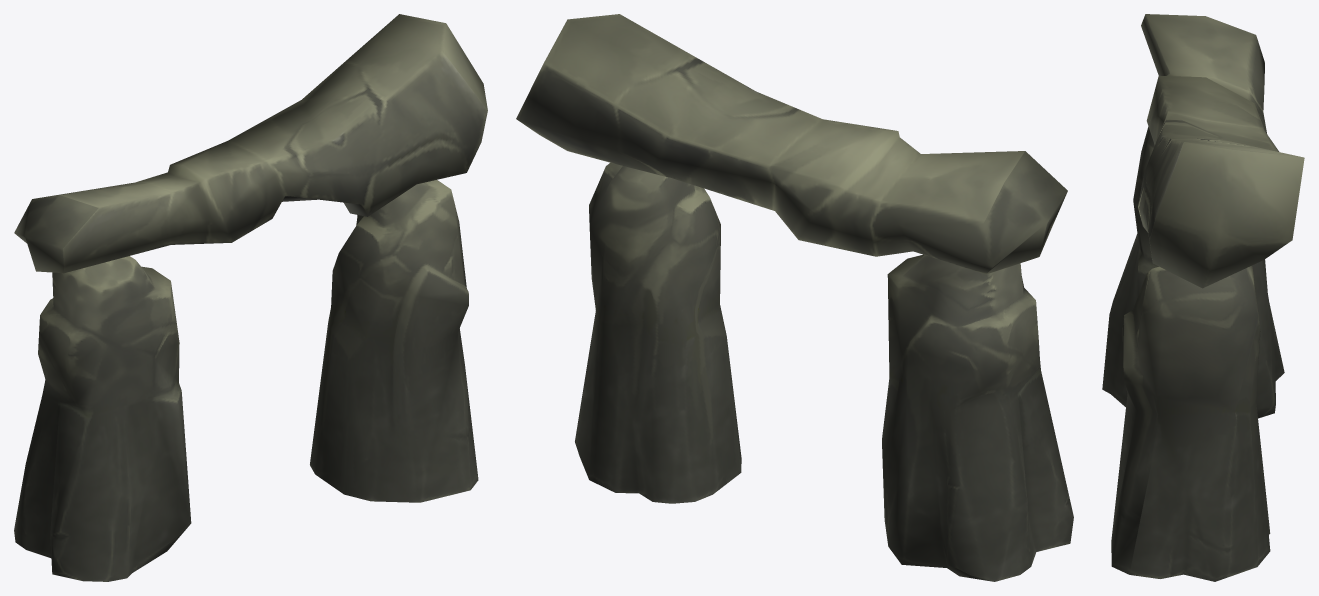
File: Props18.FBX
The picture shows the model from 3 angles, left to right: view 1: azimuth 30°, elevation 25°; view 2: azimuth 150°, elevation 25°; view 3: azimuth 270°, elevation 25°; orthographic projection. The views are drawn at different scales.
Visible parts, largest first — view 1: Props18; view 2: Props18; view 3: Props18.
Boxes of the visible parts, x1=… form: Props18: x1=14, y1=14, x2=487, y2=581; Props18: x1=516, y1=14, x2=1073, y2=581; Props18: x1=1102, y1=14, x2=1304, y2=581.
Size of the model in its own units: 515 by 438 by 185.
